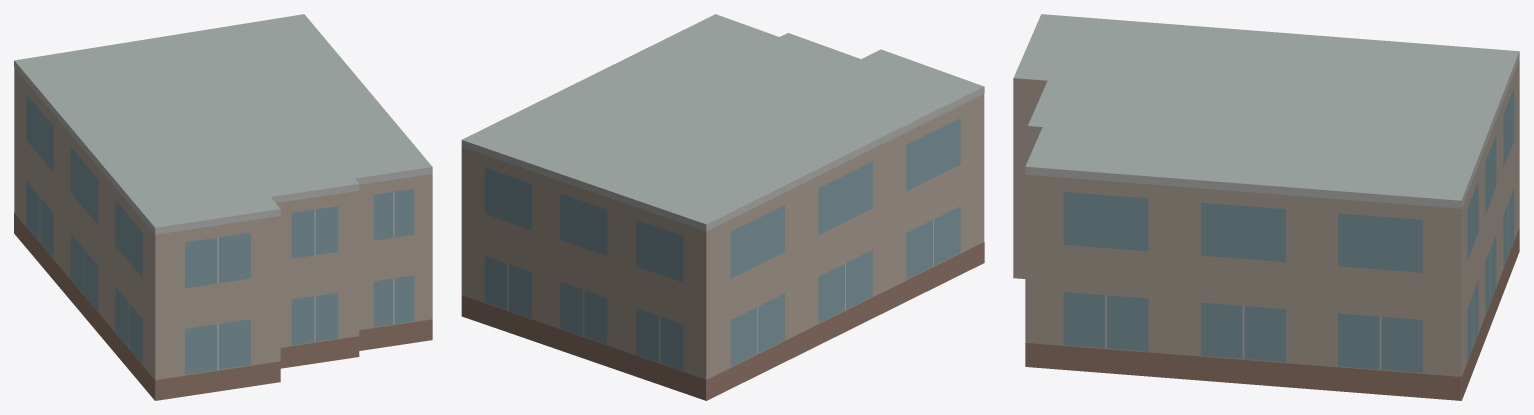
Rendered from survey-upis-32939909.glb.
The picture shows the model from 3 angles, left to right: view 1: azimuth 30°, elevation 25°; view 2: azimuth 150°, elevation 25°; view 3: azimuth 270°, elevation 25°; orthographic projection. The views are drawn at different scales.
Parts seen in each view (by area): view 1: survey-upis-32939909.tmp; view 2: survey-upis-32939909.tmp; view 3: survey-upis-32939909.tmp.
Boxes of the visible parts, box(x1,y1,x2,y2) form: survey-upis-32939909.tmp: box(14, 14, 432, 400); survey-upis-32939909.tmp: box(461, 14, 984, 400); survey-upis-32939909.tmp: box(1013, 14, 1519, 400).
Bounding box in the file's own units: 12.22 × 6.1 × 13.99.
